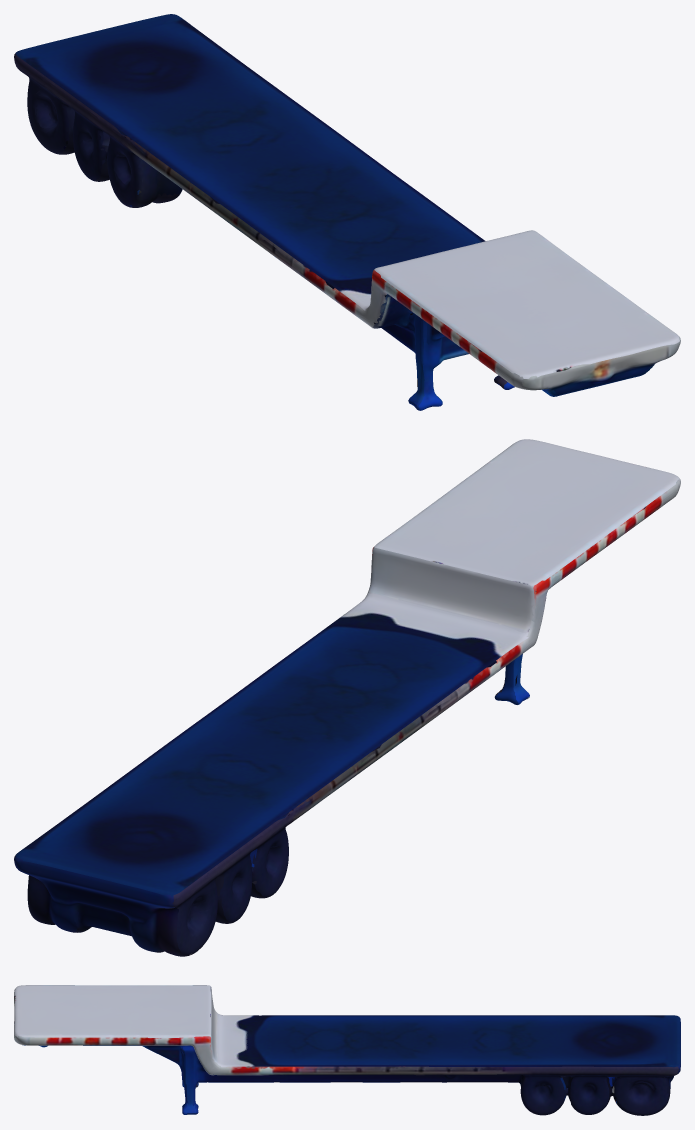
The picture shows the model from 3 angles, top to bottom: view 1: azimuth 30°, elevation 25°; view 2: azimuth 150°, elevation 25°; view 3: azimuth 270°, elevation 25°; orthographic projection. The views are drawn at different scales.
Parts seen in each view (by area): view 1: tmpjrki9607.ply; view 2: tmpjrki9607.ply; view 3: tmpjrki9607.ply.
Boxes of the visible parts, x1,y1,x2,y2 form: tmpjrki9607.ply: [14, 14, 680, 410]; tmpjrki9607.ply: [14, 439, 680, 956]; tmpjrki9607.ply: [14, 985, 680, 1115].
Size of the model in its own units: 0.3689 by 0.2859 by 1.96.
Materials: 1 (1 with a texture image).
